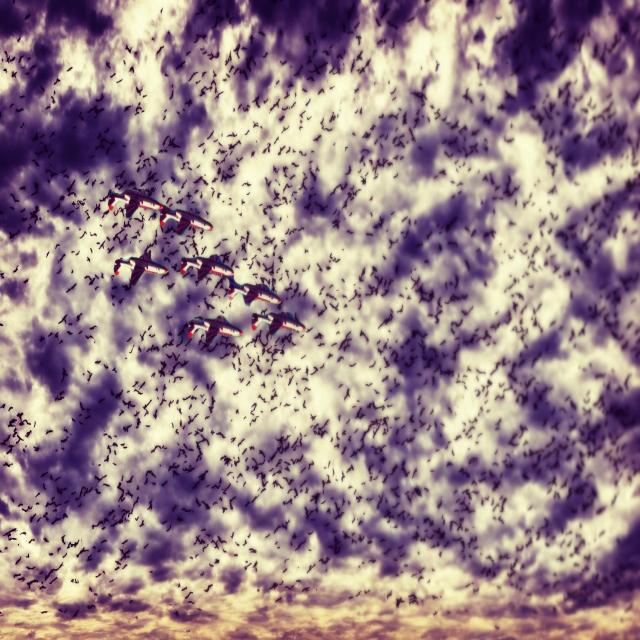airplane: (113, 252, 169, 290), (104, 188, 166, 220), (185, 315, 243, 347), (160, 204, 213, 237), (182, 252, 233, 284), (228, 277, 280, 307), (251, 309, 306, 336)
